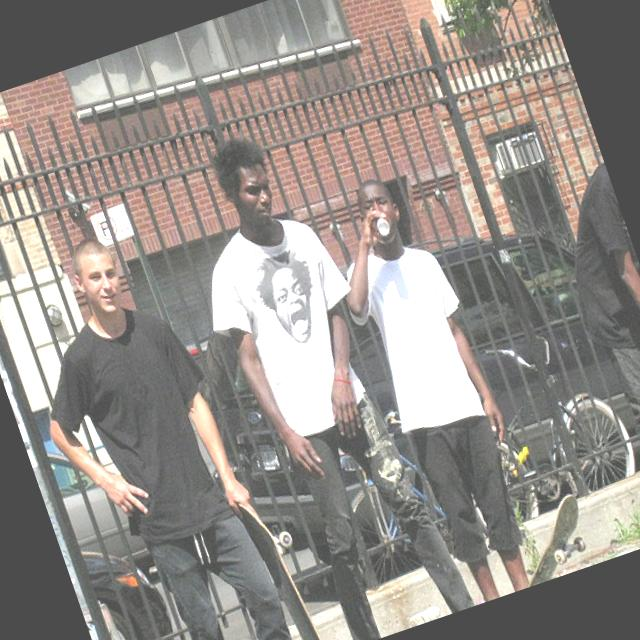Vehicle: (180, 198, 640, 593), (54, 504, 190, 640), (26, 430, 127, 578), (165, 338, 248, 474)
